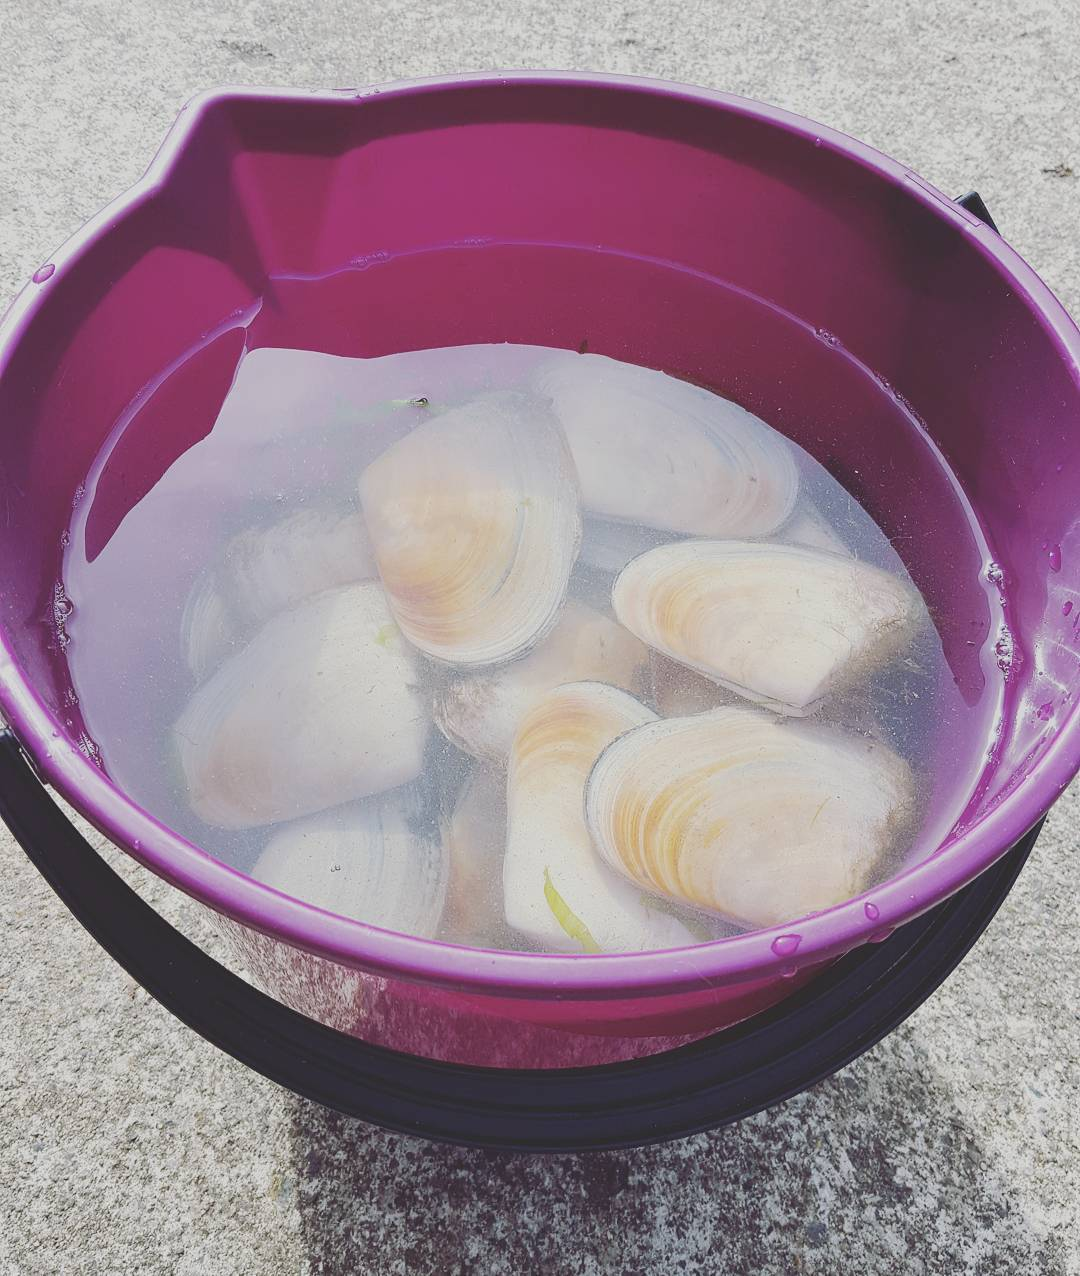tuatua: (574, 701, 921, 924), (351, 381, 589, 666), (171, 575, 434, 834), (607, 531, 928, 720), (539, 336, 814, 547), (498, 675, 706, 954), (243, 778, 459, 941)
